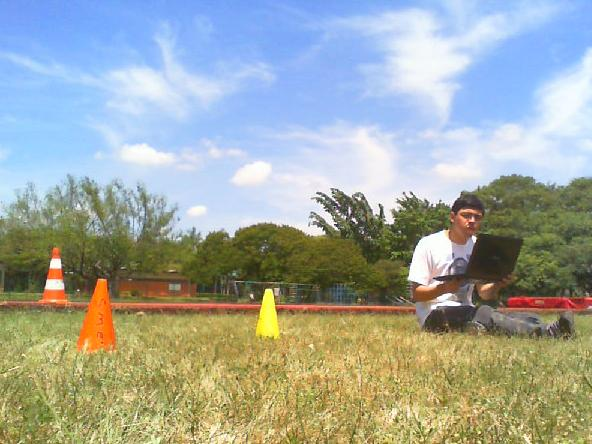0 cone: (74, 279, 116, 353), (37, 247, 66, 303), (256, 289, 281, 337)
